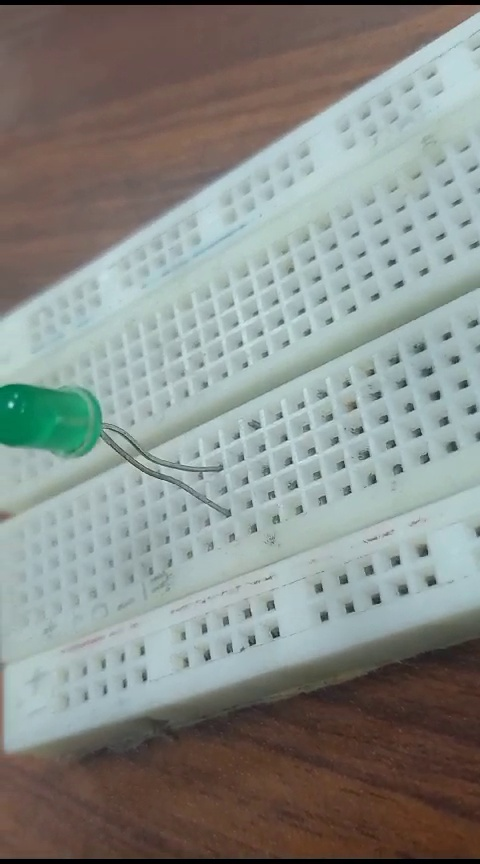LED: (4, 375, 238, 528)
